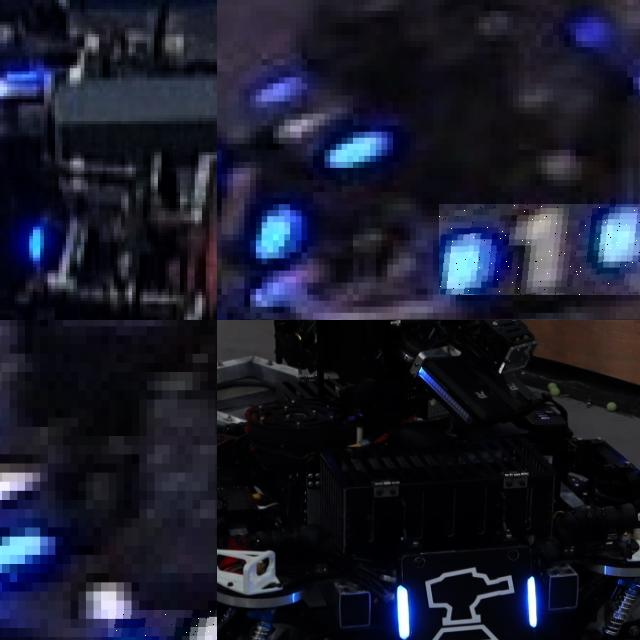B1: (438, 204, 640, 294), (256, 65, 387, 168), (217, 143, 290, 270)
Bs: (390, 559, 538, 640)
